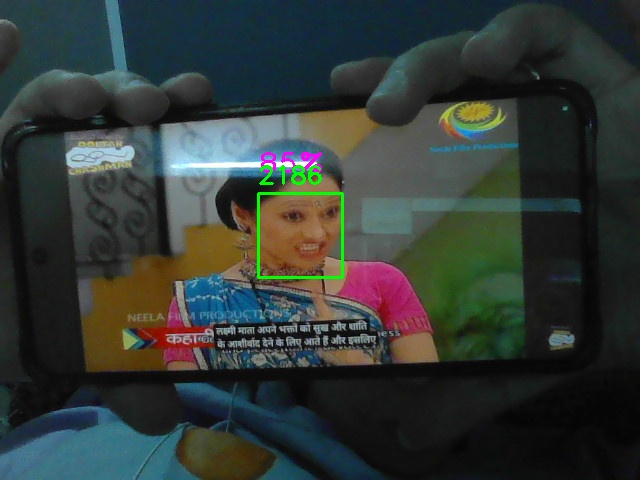fake: (258, 193, 343, 278)
